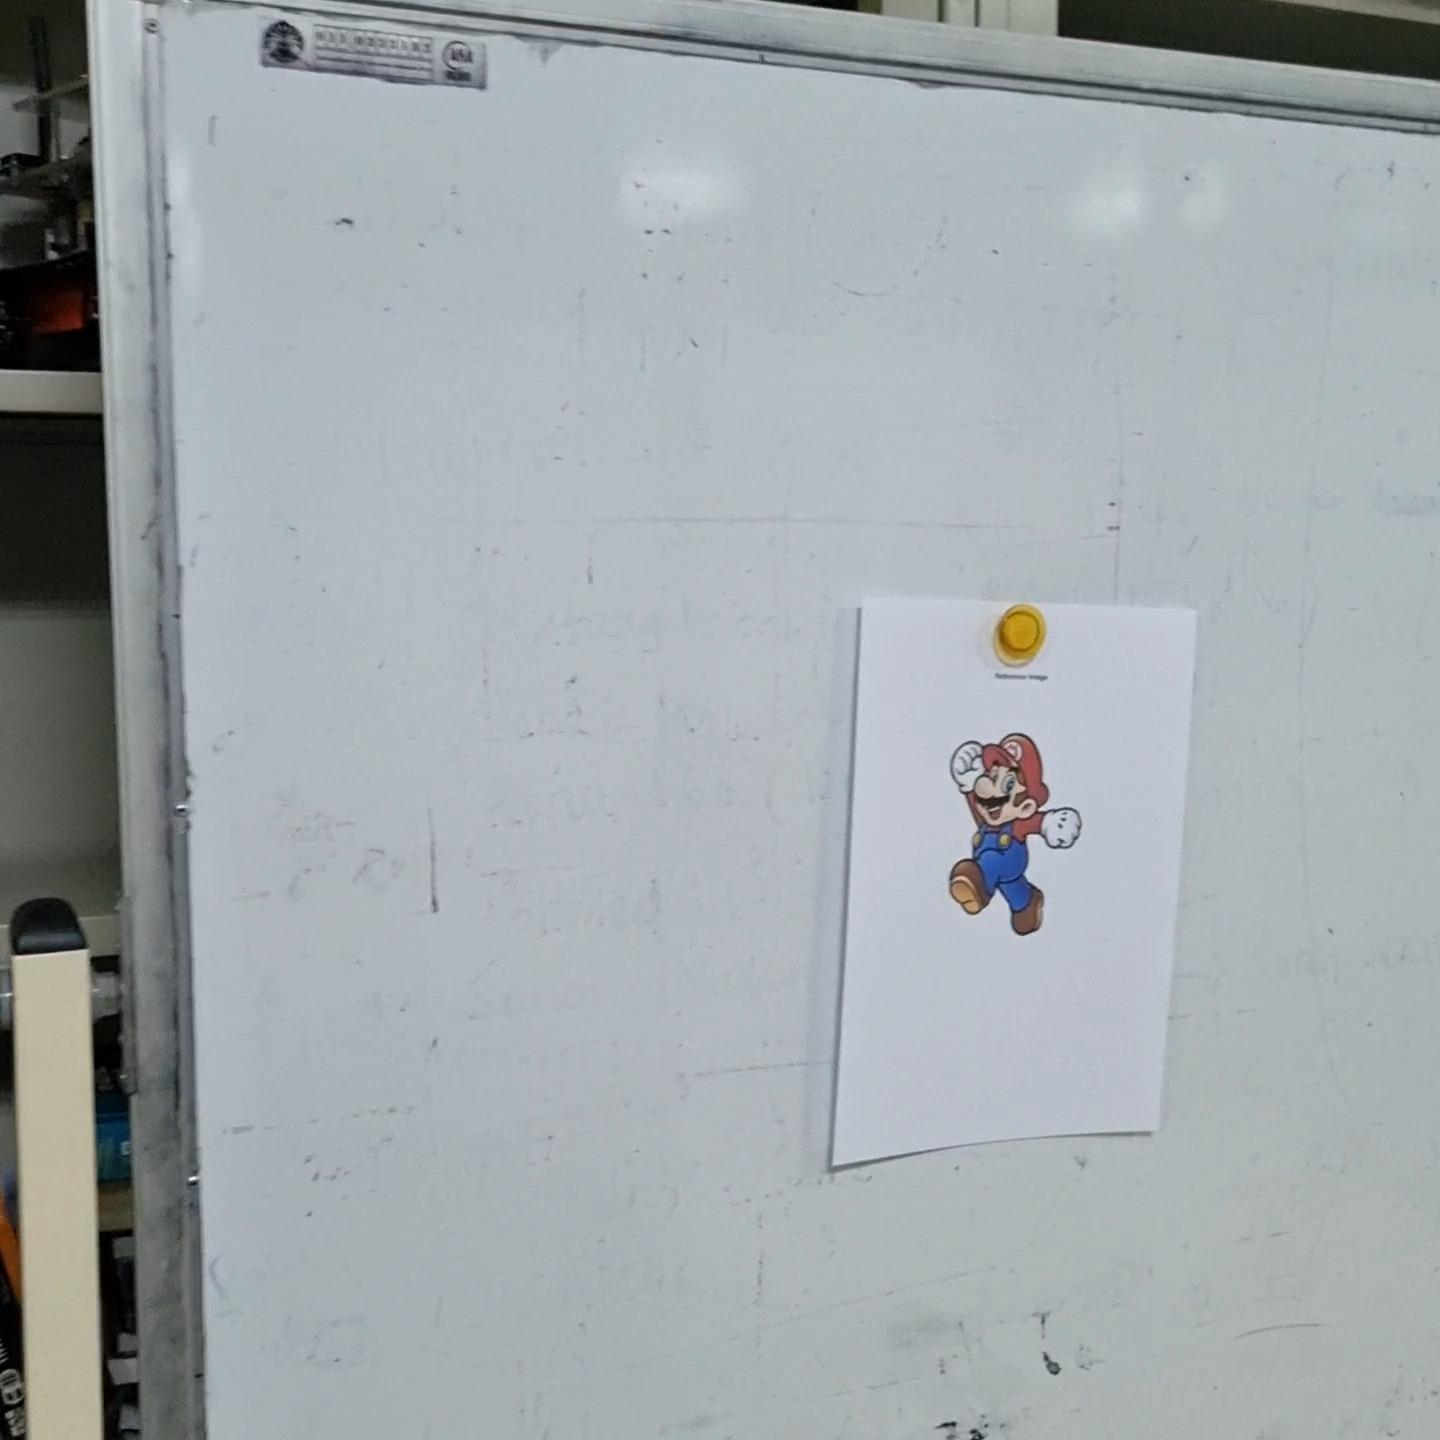mario: (940, 720, 1087, 942)
